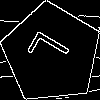L: (27, 28, 79, 76)
